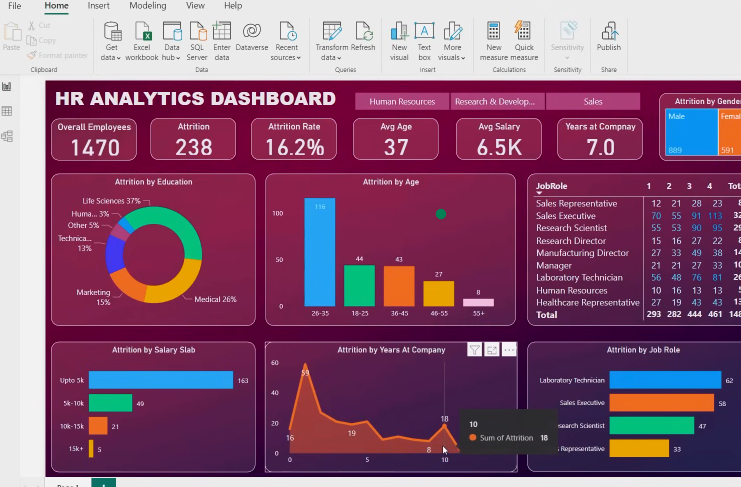

What the dashboard file says about the page in this screenshot:
{"tool":"powerbi","page":{"name":"Page 1","canvas":[1280,720],"ordinal":0},"visuals":[{"type":"card","title":"Count Of Employee","fields":{"Values":["CountNonNull(HR_Analytics - HR_Analytics (2).EmpID)"]},"box":[43.8,168.8,196.9,104.7],"z":0},{"type":"card","title":"Count Of Employee","fields":{"Values":["Sum(HR_Analytics - HR_Analytics (2).AttritionCount)"]},"box":[264.1,170.4,261,104.7],"z":1000},{"type":"card","title":"Avg  Employee Working","fields":{"Values":["Avg(HR_Analytics - HR_Analytics (2).YearsAtCompany)"]},"box":[537.7,297,264.1,103.2],"z":2000},{"type":"card","title":"Count Of Employee","fields":{"Values":["HR_Analytics - HR_Analytics (2).AttritionRate"]},"box":[537.7,170.4,264.1,104.7],"z":3000},{"type":"card","title":"Avg  Employee Age","fields":{"Values":["Avg(HR_Analytics - HR_Analytics (2).Age)"]},"box":[43.8,295.4,196.9,104.7],"z":4000},{"type":"card","title":"Avg  Employee Income","fields":{"Values":["Avg(HR_Analytics - HR_Analytics (2).MonthlyIncome)"]},"box":[264.1,295.4,237.6,103.2],"z":5000},{"type":"donutChart","title":"Attrition by Education","fields":{"Category":["HR_Analytics - HR_Analytics (2).EducationField"],"Y":["Sum(HR_Analytics - HR_Analytics (2).AttritionCount)"]},"box":[43.3,416.7,415,255],"z":6000},{"type":"columnChart","title":"Attrition by Age","fields":{"Category":["HR_Analytics - HR_Analytics (2).AgeGroup"],"Y":["Sum(HR_Analytics - HR_Analytics (2).AttritionCount)"]},"box":[470,416.7,398.3,255],"z":7000},{"type":"pivotTable","fields":{"Values":["Sum(HR_Analytics - HR_Analytics (2).AttritionCount)"],"Columns":["HR_Analytics - HR_Analytics (2).JobSatisfaction"],"Rows":["HR_Analytics - HR_Analytics (2).JobRole"]},"box":[881.5,418.9,365.7,253.2],"z":8000},{"type":"textbox","box":[32.2,16.1,468.9,48.3],"z":8001},{"type":"lineChart","fields":{"Category":["HR_Analytics - HR_Analytics (2).HourlyRate"]},"box":[869,157.9,372,242.3],"z":8002},{"type":"clusteredColumnChart","fields":{"Category":["HR_Analytics - HR_Analytics (2).Gender"],"Y":["Sum(HR_Analytics - HR_Analytics (2).EmployeeCount)"]},"box":[870.2,16.1,372.2,128.9],"z":8003}]}

Visuals, with their boxes on the page's 1280x720 design canvas (x1, y1, x2, y2). These are canvas units, not pixel positions in the 741x487 screenshot, which may show the page scaled, cropped or inside an application window:
"Count Of Employee" card: <box>44,169,241,274</box>
"Count Of Employee" card: <box>264,170,525,275</box>
"Avg  Employee Working" card: <box>538,297,802,400</box>
"Count Of Employee" card: <box>538,170,802,275</box>
"Avg  Employee Age" card: <box>44,295,241,400</box>
"Avg  Employee Income" card: <box>264,295,502,399</box>
"Attrition by Education" donutChart: <box>43,417,458,672</box>
"Attrition by Age" columnChart: <box>470,417,868,672</box>
pivotTable - Sum(HR_Analytics - HR_Analytics (2).AttritionCount) x HR_Analytics - HR_Analytics (2).JobSatisfaction: <box>882,419,1247,672</box>
textbox: <box>32,16,501,64</box>
lineChart - HR_Analytics - HR_Analytics (2).HourlyRate: <box>869,158,1241,400</box>
clusteredColumnChart - HR_Analytics - HR_Analytics (2).Gender x Sum(HR_Analytics - HR_Analytics (2).EmployeeCount): <box>870,16,1242,145</box>
